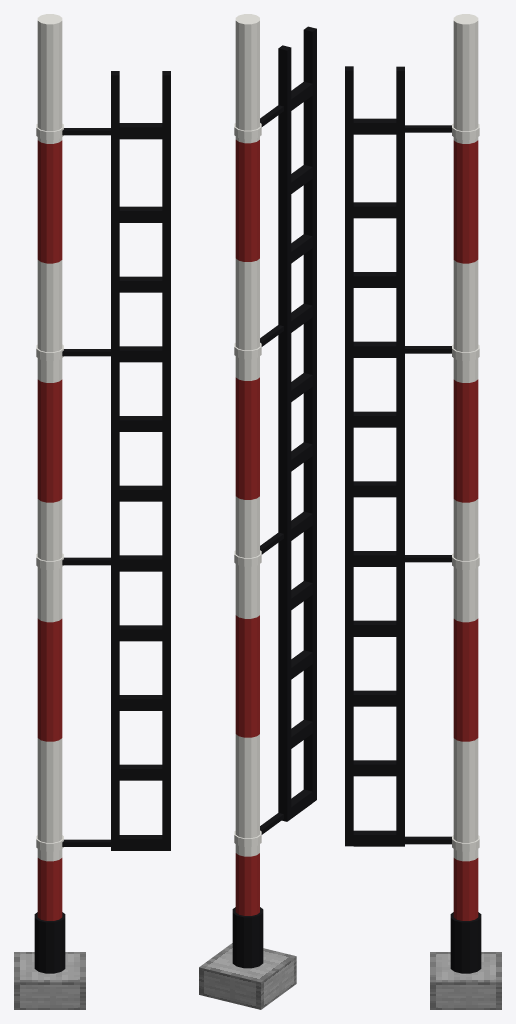
File: default_signal.obj
3 renders of one model, left to right at view 1: azimuth 90°, elevation 25°; view 2: azimuth 150°, elevation 25°; view 3: azimuth 270°, elevation 25°, orthographic.
Visible parts, largest first — view 1: pole, ladder_bottom, foundation, ladder_support; view 2: pole, ladder_bottom, foundation, ladder_support; view 3: pole, ladder_bottom, foundation, ladder_support.
Part boxes in pixels (x1=…): pole: x1=34, y1=14, x2=65, y2=973; ladder_bottom: x1=111, y1=71, x2=170, y2=850; foundation: x1=14, y1=952, x2=85, y2=1009; ladder_support: x1=62, y1=128, x2=110, y2=846; pole: x1=232, y1=14, x2=263, y2=968; ladder_bottom: x1=278, y1=26, x2=316, y2=821; foundation: x1=199, y1=943, x2=296, y2=1009; ladder_support: x1=260, y1=105, x2=283, y2=834; pole: x1=450, y1=14, x2=481, y2=973; ladder_bottom: x1=345, y1=66, x2=404, y2=846; foundation: x1=430, y1=952, x2=501, y2=1009; ladder_support: x1=370, y1=125, x2=451, y2=844.
Size of the model in its own units: 0.293 by 4.38 by 0.6384.
